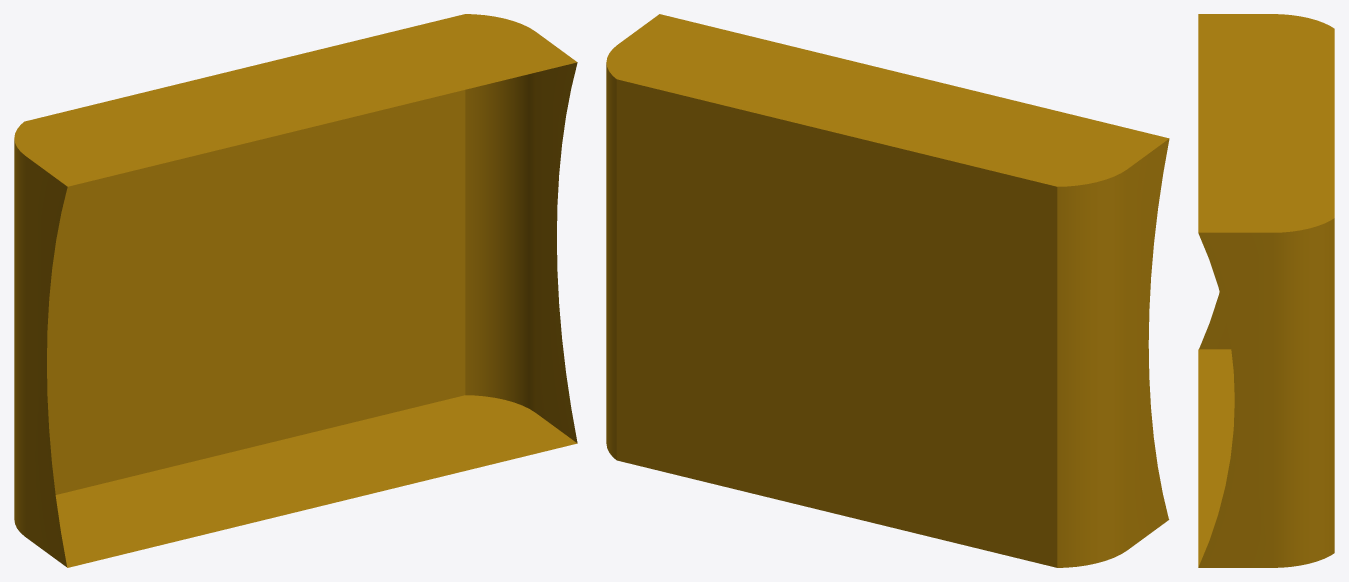
File: original-5.obj
3 renders of one model, left to right at view 1: azimuth 30°, elevation 25°; view 2: azimuth 150°, elevation 25°; view 3: azimuth 270°, elevation 25°, orthographic. The views are drawn at different scales.
Visible parts, largest first — view 1: mesh12/mesh12-geometry#mesh12-geometry; view 2: mesh12/mesh12-geometry#mesh12-geometry; view 3: mesh12/mesh12-geometry#mesh12-geometry.
Part boxes in pixels (x1,y1,x2,y2): mesh12/mesh12-geometry#mesh12-geometry: (14,14,577,567); mesh12/mesh12-geometry#mesh12-geometry: (606,14,1169,567); mesh12/mesh12-geometry#mesh12-geometry: (1198,14,1334,567).
Bounding box in the file's own units: 0.0748 × 0.0534 × 0.0197.
